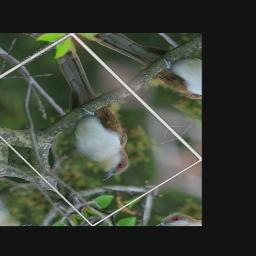Cuckoo: (0, 39, 174, 183)
